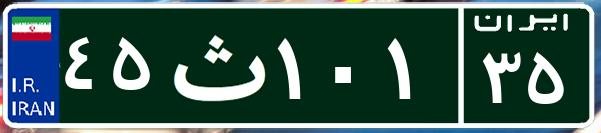0: (330, 28, 385, 110)
1: (385, 28, 445, 110), (273, 28, 330, 110)
3: (475, 38, 525, 113)
4: (57, 26, 110, 107)
5: (110, 28, 158, 105), (525, 38, 570, 115)
ث: (158, 15, 273, 115)
